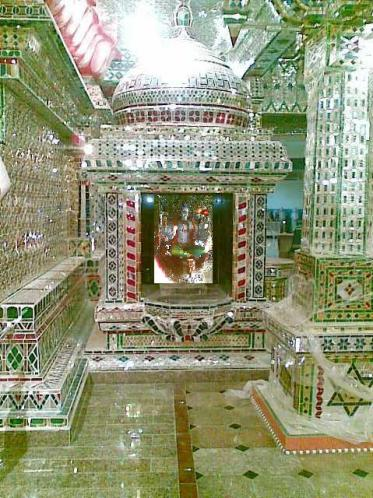Hindu Temple: (84, 61, 264, 341)
